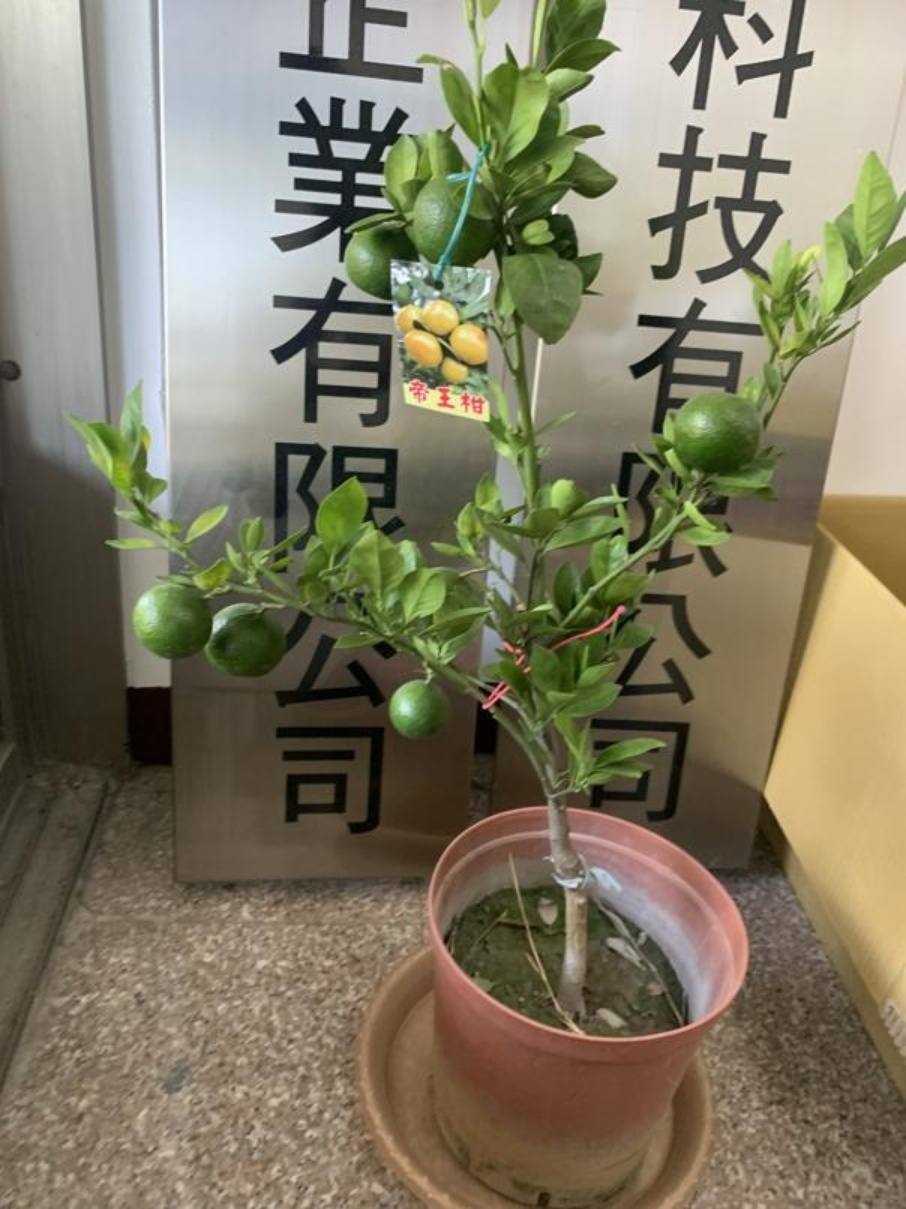Tangerine: (678, 390, 765, 474), (128, 575, 214, 659), (206, 603, 291, 679), (387, 678, 453, 742)
